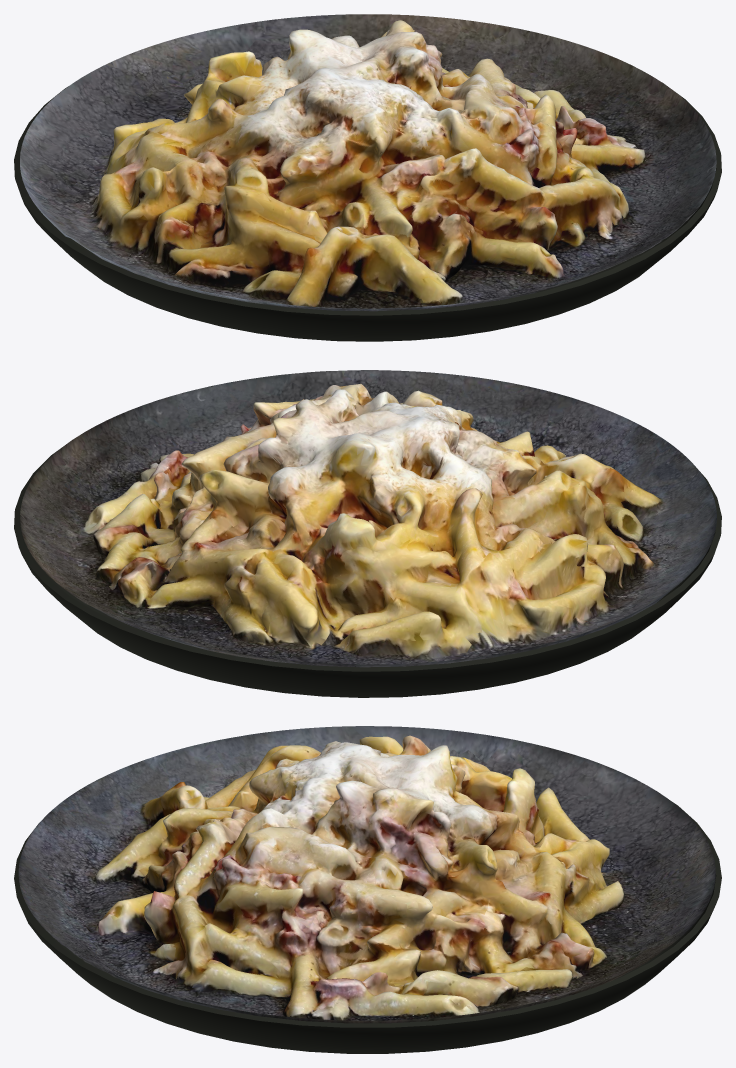
The model's file is Plato_04.glb.
3 views of the same model, one above another, from view 1: azimuth 30°, elevation 25°; view 2: azimuth 150°, elevation 25°; view 3: azimuth 270°, elevation 25° (orthographic).
Parts seen in each view (by area): view 1: Carbonara_OpenMesh, CesarSBasePlate copy; view 2: Carbonara_OpenMesh, CesarSBasePlate copy; view 3: Carbonara_OpenMesh, CesarSBasePlate copy.
Boxes of the visible parts, x1,y1,x2,y2 form: Carbonara_OpenMesh: (20,14,716,311); CesarSBasePlate copy: (14,82,721,341); Carbonara_OpenMesh: (20,370,716,667); CesarSBasePlate copy: (14,447,721,697); Carbonara_OpenMesh: (18,726,715,1023); CesarSBasePlate copy: (14,801,721,1053).
Bounding box in the file's own units: 0.246 × 0.064 × 0.246.
Materials: 2 (1 with a texture image).
